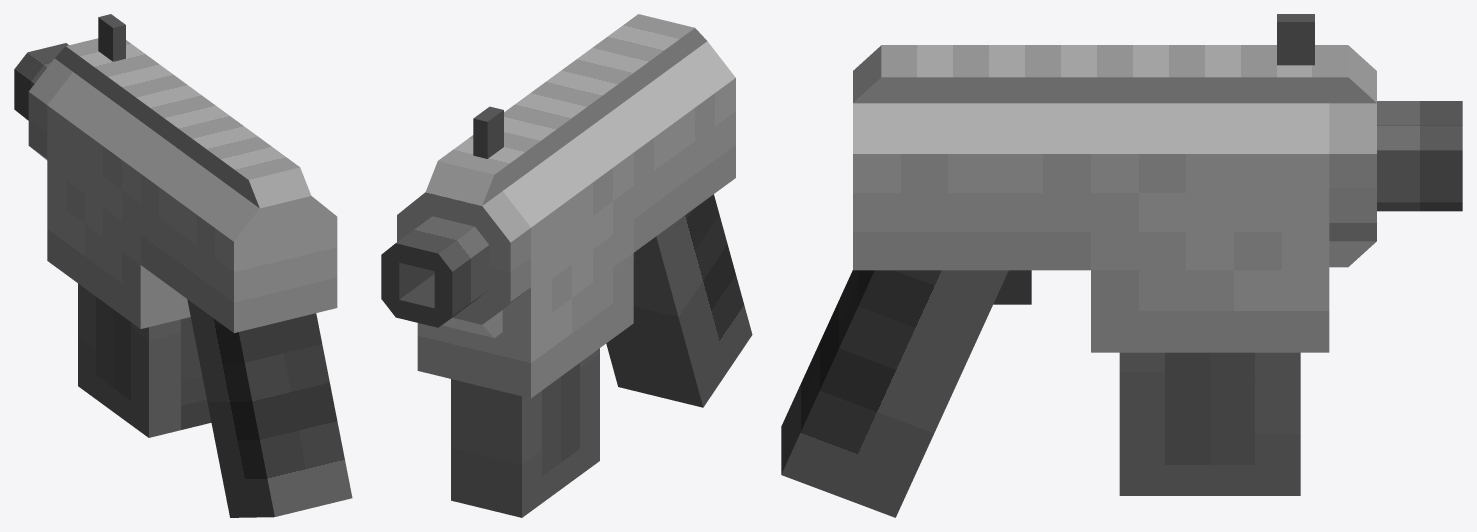
Rendered from machine_pistol.gltf.
3 renders of one model, left to right at view 1: azimuth 30°, elevation 25°; view 2: azimuth 150°, elevation 25°; view 3: azimuth 270°, elevation 25°, orthographic. The views are drawn at different scales.
Parts seen in each view (by area): view 1: cube (×14); view 2: cube (×19); view 3: cube (×17).
Boxes of the visible parts, x1,y1,x2,y2 form: cube (×14): (14, 14, 352, 517); cube (×19): (381, 14, 752, 517); cube (×17): (781, 14, 1462, 517).
Bounding box in the file's own units: 0.1 × 0.3443 × 0.447.
1 material, 1 textured.
